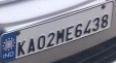character: (55, 28, 64, 44), (65, 24, 74, 40), (83, 18, 92, 34), (27, 38, 36, 53), (17, 40, 25, 56), (46, 31, 54, 47), (37, 34, 45, 49), (91, 17, 99, 32), (100, 13, 108, 28), (74, 23, 82, 37)
